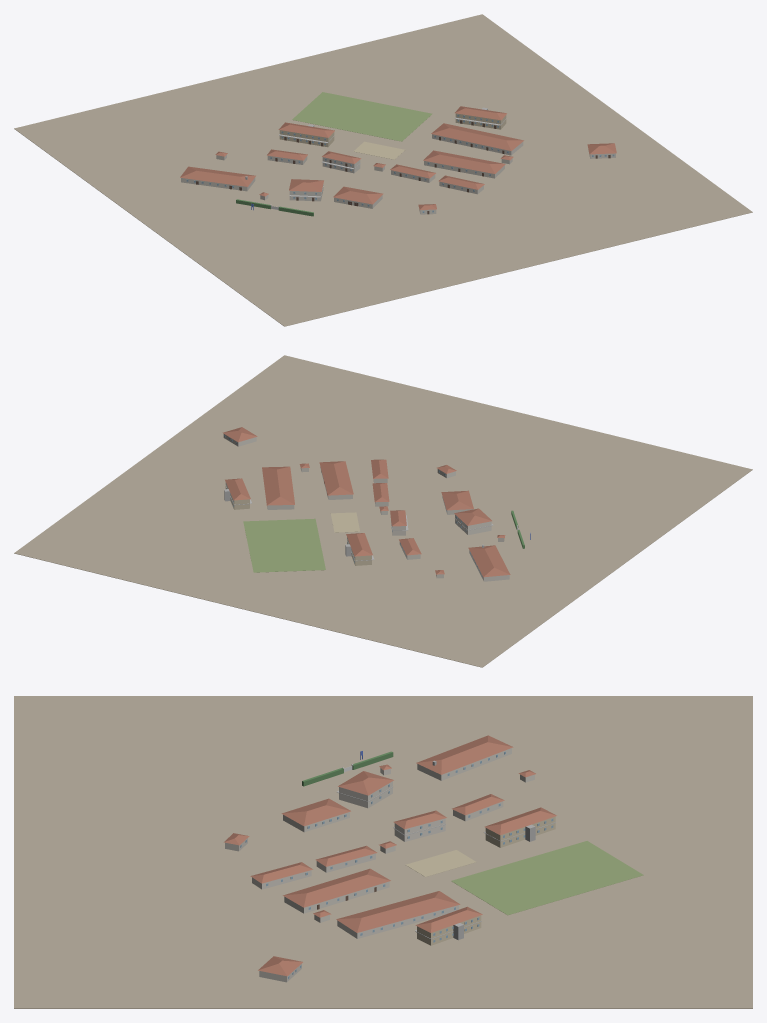
File: sos_technical_school_v3.glb
3 renders of one model, top to bottom at view 1: azimuth 30°, elevation 25°; view 2: azimuth 150°, elevation 25°; view 3: azimuth 270°, elevation 25°, orthographic. The views are drawn at different scales.
Parts seen in each view (by area): view 1: Ground, Football_pitch, workshop_with_5_class_all_facing_front_G_5classes, block_with_6_classes_3_on_front_and_others_on_back_G_6classe, Diningandkitchen_G, Boys_dorm_G+1_16rooms, Girls_dorm_G+1_16rooms, main_hall_G, admin_and_c_labs_G+1, block_with_4_classes_2_down_2_up_G+1_4classes, Basketball, block_with_2_classes_a_G_2classes; view 2: Ground, Football_pitch, workshop_with_5_class_all_facing_front_G_5classes, Diningandkitchen_G, block_with_6_classes_3_on_front_and_others_on_back_G_6classe, admin_and_c_labs_G+1, Boys_dorm_G+1_16rooms, Girls_dorm_G+1_16rooms, main_hall_G, Basketball; view 3: Ground, Football_pitch, workshop_with_5_class_all_facing_front_G_5classes, block_with_6_classes_3_on_front_and_others_on_back_G_6classe, Diningandkitchen_G, Boys_dorm_G+1_16rooms, Girls_dorm_G+1_16rooms, admin_and_c_labs_G+1, main_hall_G, block_with_4_classes_2_down_2_up_G+1_4classes, Basketball, block_with_2_classes_a_G_2classes (+3 smaller).
Boxes of the visible parts, x1,y1,x2,y2 form: Ground: [14, 14, 752, 326]; Football_pitch: [292, 92, 432, 141]; workshop_with_5_class_all_facing_front_G_5classes: [431, 123, 523, 155]; block_with_6_classes_3_on_front_and_others_on_back_G_6classe: [423, 150, 505, 178]; Diningandkitchen_G: [180, 166, 255, 191]; Boys_dorm_G+1_16rooms: [278, 122, 334, 147]; Girls_dorm_G+1_16rooms: [455, 106, 506, 129]; main_hall_G: [333, 186, 383, 208]; admin_and_c_labs_G+1: [289, 179, 323, 201]; block_with_4_classes_2_down_2_up_G+1_4classes: [321, 151, 361, 173]; Basketball: [353, 141, 404, 159]; block_with_2_classes_a_G_2classes: [438, 175, 484, 194]; Ground: [14, 355, 752, 667]; Football_pitch: [243, 518, 325, 572]; workshop_with_5_class_all_facing_front_G_5classes: [262, 466, 294, 509]; Diningandkitchen_G: [468, 544, 510, 581]; block_with_6_classes_3_on_front_and_others_on_back_G_6classe: [319, 461, 353, 499]; admin_and_c_labs_G+1: [454, 508, 493, 535]; Boys_dorm_G+1_16rooms: [345, 533, 374, 565]; Girls_dorm_G+1_16rooms: [224, 478, 252, 509]; main_hall_G: [441, 490, 473, 514]; Basketball: [330, 512, 359, 532]; Ground: [14, 696, 752, 1008]; Football_pitch: [451, 841, 643, 915]; workshop_with_5_class_all_facing_front_G_5classes: [336, 891, 460, 938]; block_with_6_classes_3_on_front_and_others_on_back_G_6classe: [283, 868, 390, 913]; Diningandkitchen_G: [416, 735, 513, 780]; Boys_dorm_G+1_16rooms: [484, 807, 556, 847]; Girls_dorm_G+1_16rooms: [415, 906, 482, 945]; admin_and_c_labs_G+1: [337, 771, 393, 808]; main_hall_G: [281, 798, 350, 832]; block_with_4_classes_2_down_2_up_G+1_4classes: [393, 810, 446, 841]; Basketball: [405, 850, 476, 876]; block_with_2_classes_a_G_2classes: [250, 862, 312, 889].
Bounding box in the file's own units: 320 × 8.6 × 320.
